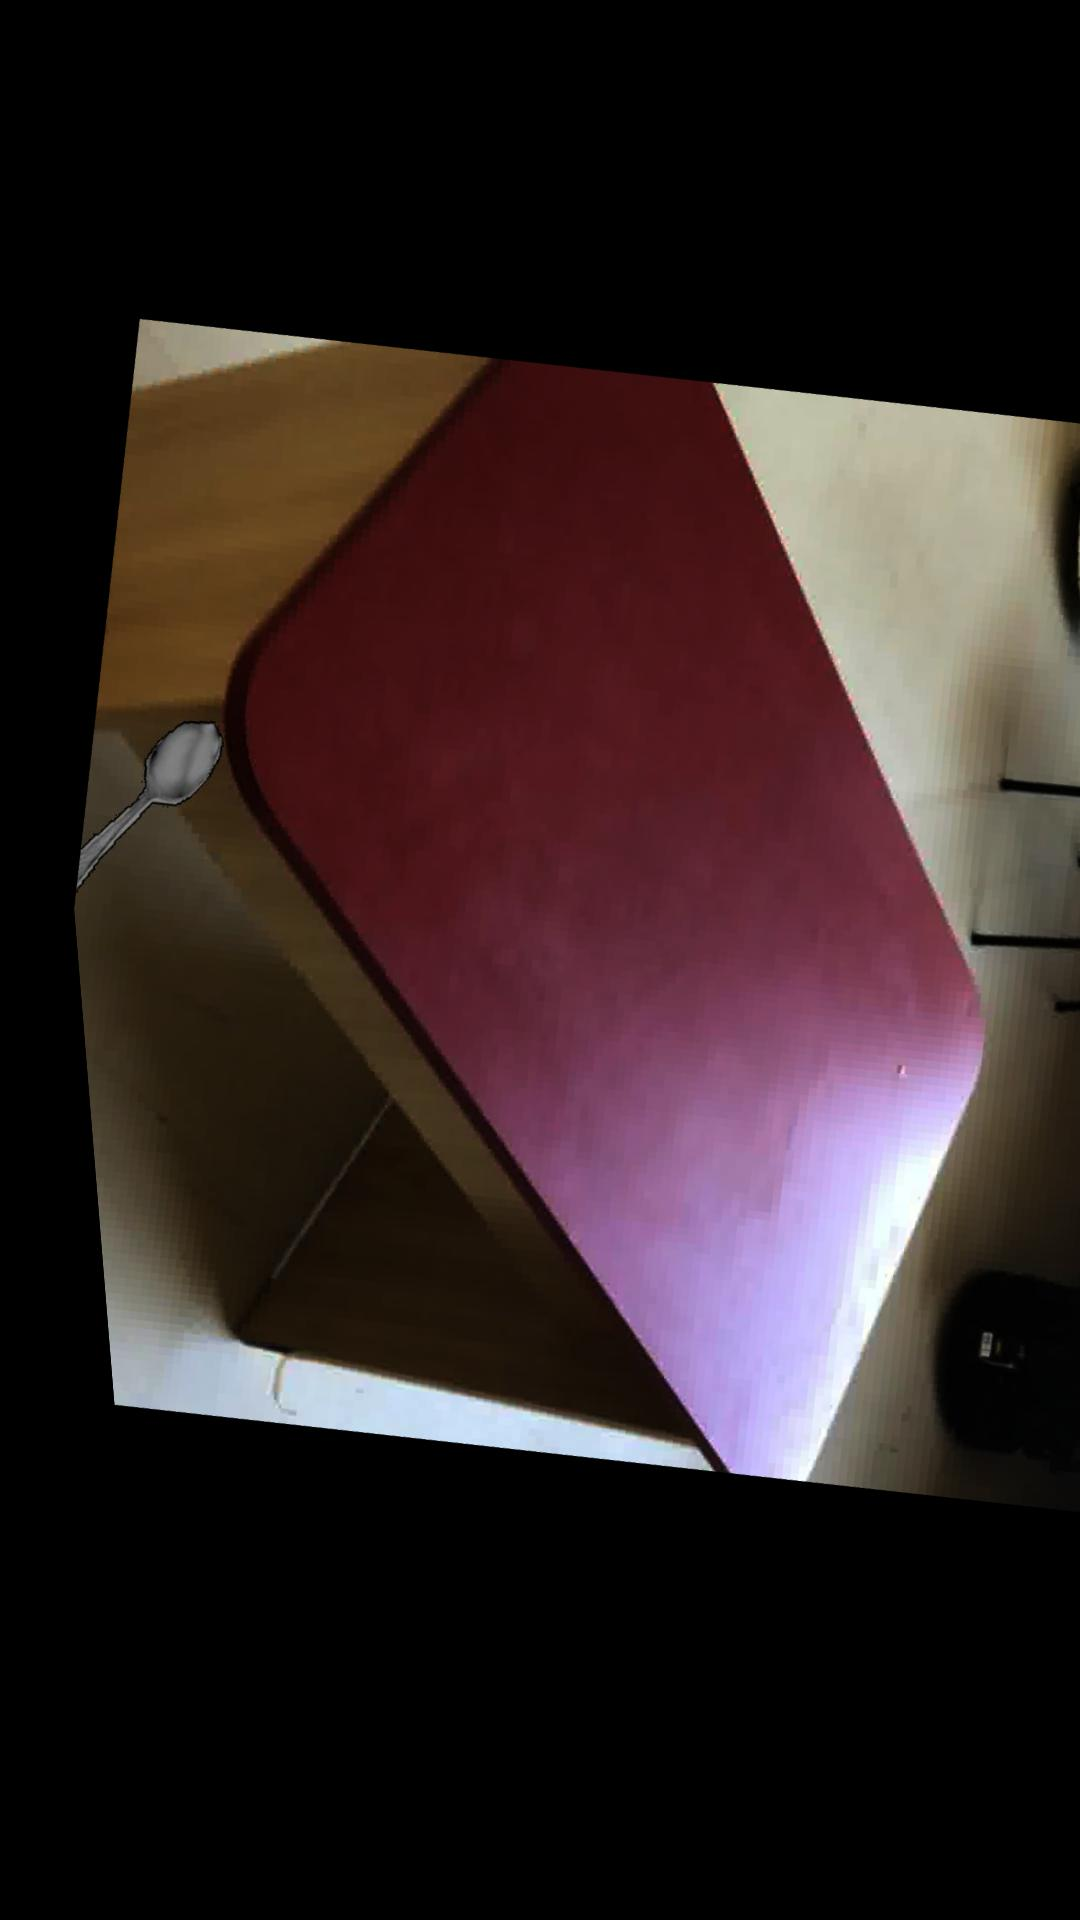spoon: (59, 724, 212, 895)
